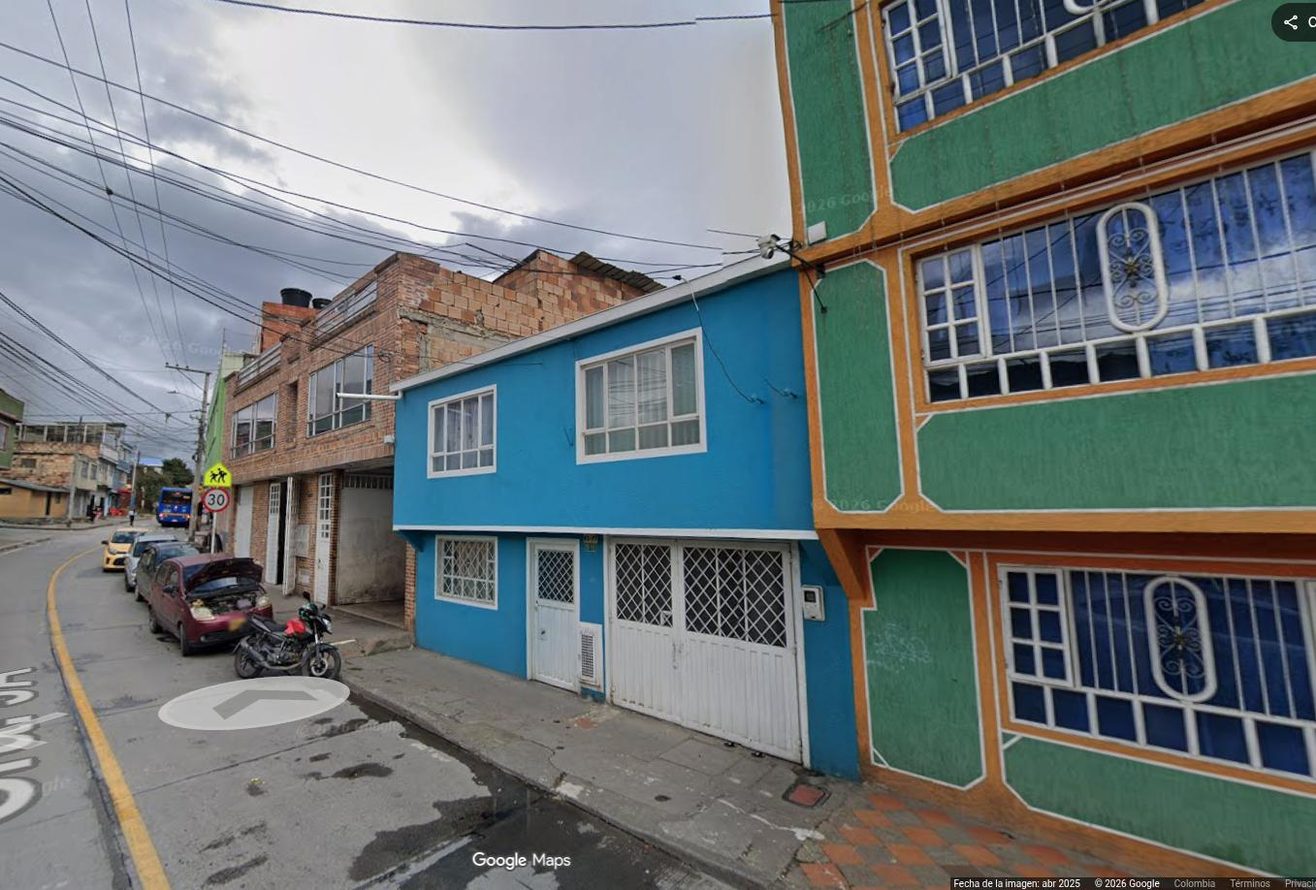casa: (773, 0, 1315, 875), (375, 259, 853, 770), (219, 251, 660, 607)
poste: (166, 364, 210, 500), (189, 501, 198, 535)
